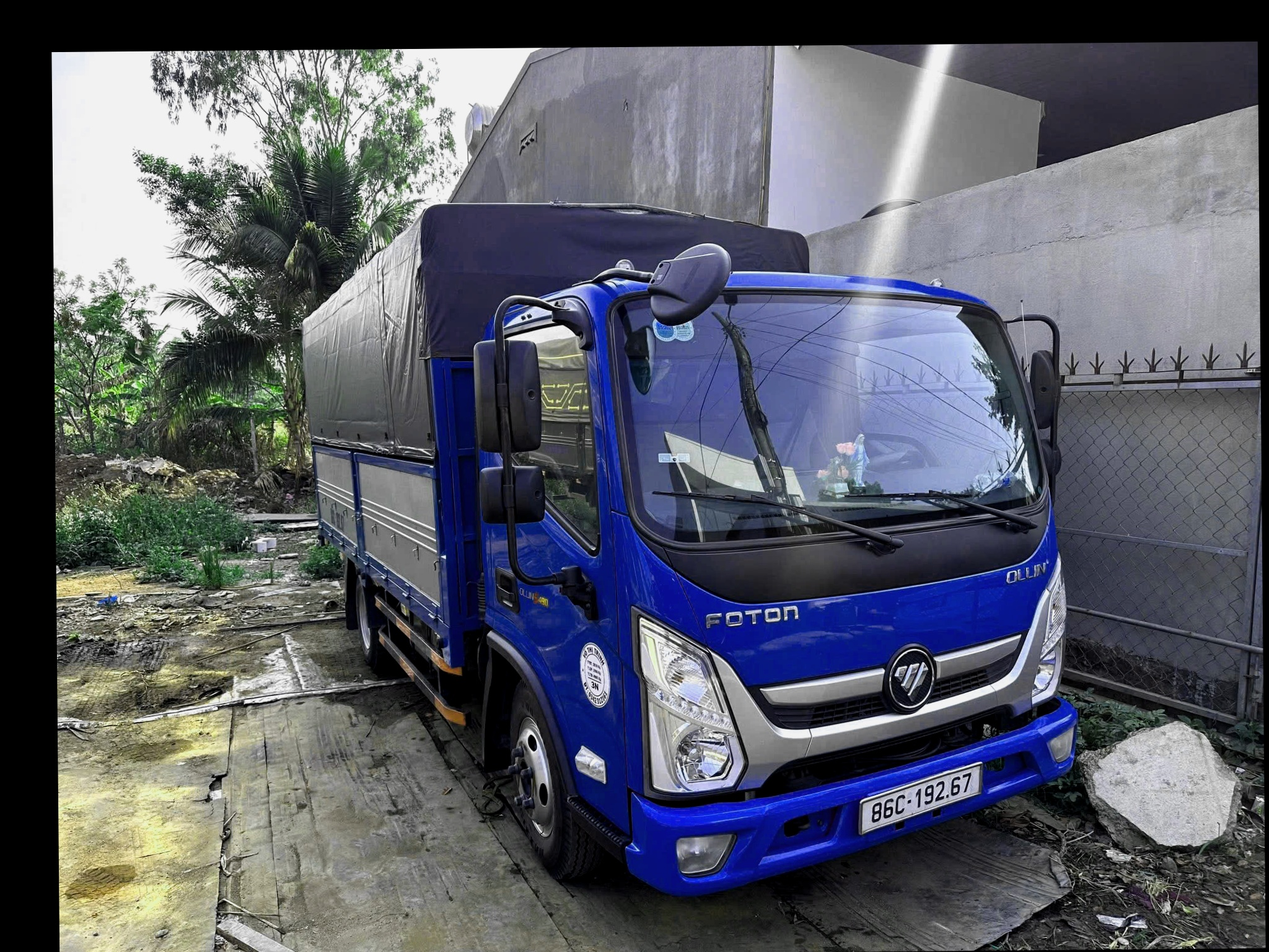Bien-so: (895, 746, 1028, 837)
